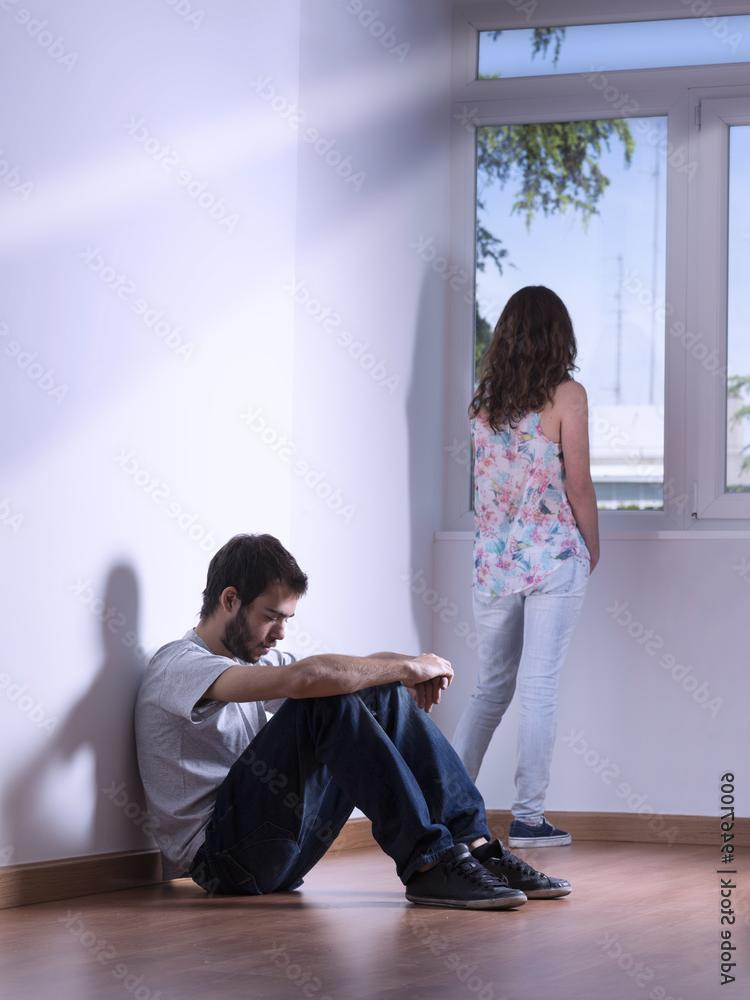short sleeve shirt: (127, 631, 301, 874)
trousers: (194, 675, 496, 894), (447, 547, 590, 829)
vest: (462, 379, 582, 595)
